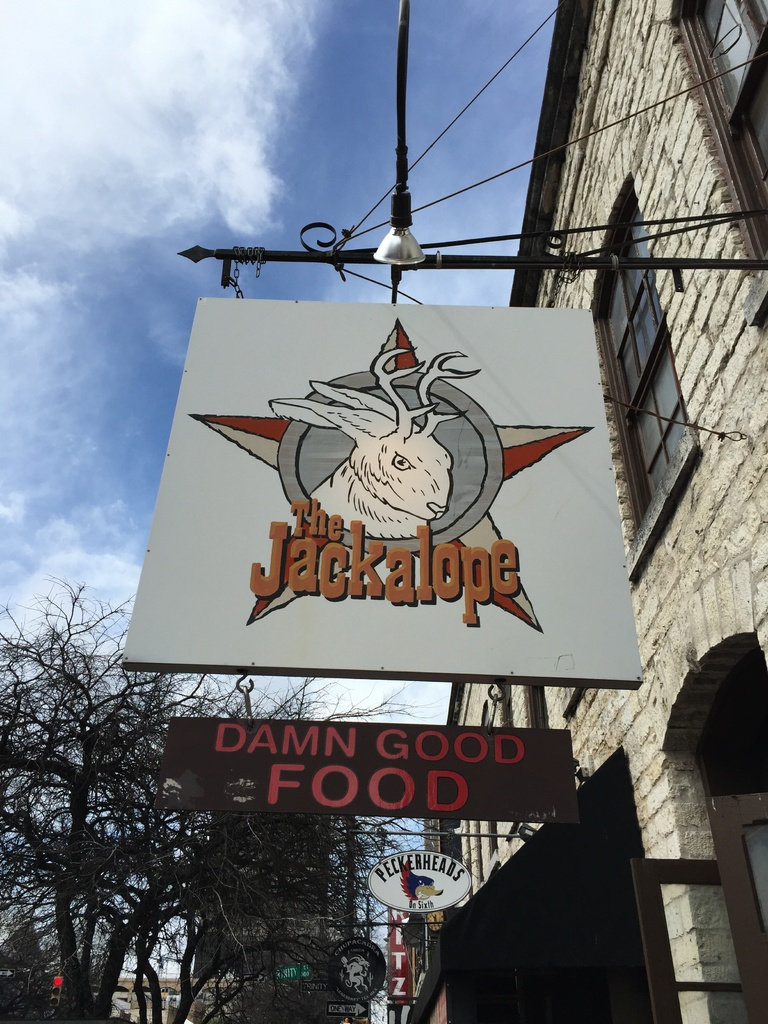Animal: (266, 339, 478, 543)
